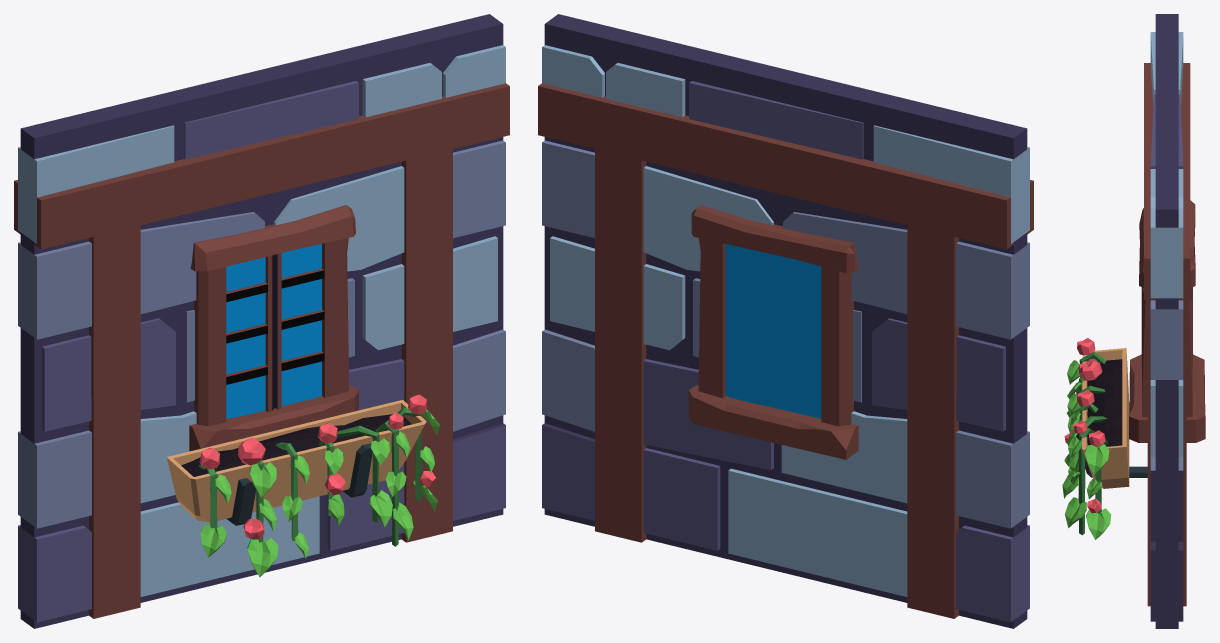
Rendered from Modular Wall 09 MK2 W4.fbx.
The picture shows the model from 3 angles, left to right: view 1: azimuth 30°, elevation 25°; view 2: azimuth 150°, elevation 25°; view 3: azimuth 270°, elevation 25°; orthographic projection. The views are drawn at different scales.
Parts seen in each view (by area): view 1: Modular Wall 09 MK2 W4; view 2: Modular Wall 09 MK2 W4; view 3: Modular Wall 09 MK2 W4.
Part boxes in pixels (bbox=[...]): Modular Wall 09 MK2 W4: bbox=[14, 14, 509, 628]; Modular Wall 09 MK2 W4: bbox=[538, 14, 1033, 628]; Modular Wall 09 MK2 W4: bbox=[1062, 14, 1205, 628].
Size of the model in its own units: 400 by 400 by 124.
